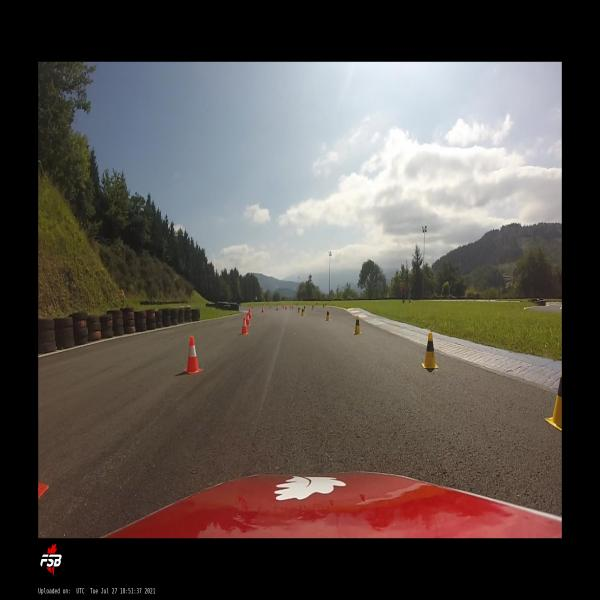orange_cone: (184, 336, 203, 374), (241, 316, 249, 334), (246, 312, 250, 326), (249, 308, 251, 319), (262, 306, 264, 312), (285, 305, 287, 310), (276, 305, 278, 310), (289, 304, 291, 308), (291, 305, 293, 308), (270, 303, 271, 308), (283, 304, 284, 308)
yellow_cone: (544, 361, 562, 431), (420, 332, 439, 368), (353, 315, 362, 335), (324, 309, 330, 321), (301, 307, 305, 316), (298, 306, 300, 314), (304, 305, 306, 312), (312, 304, 314, 310), (316, 302, 318, 306), (323, 303, 324, 308), (325, 303, 326, 307)
